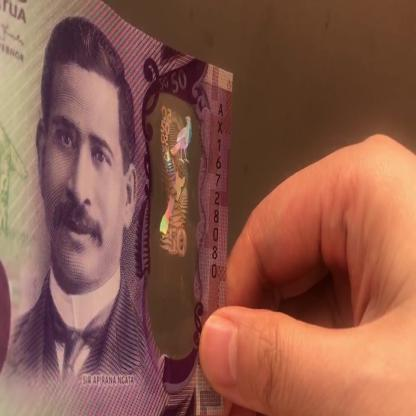50F: (155, 100, 194, 334)
